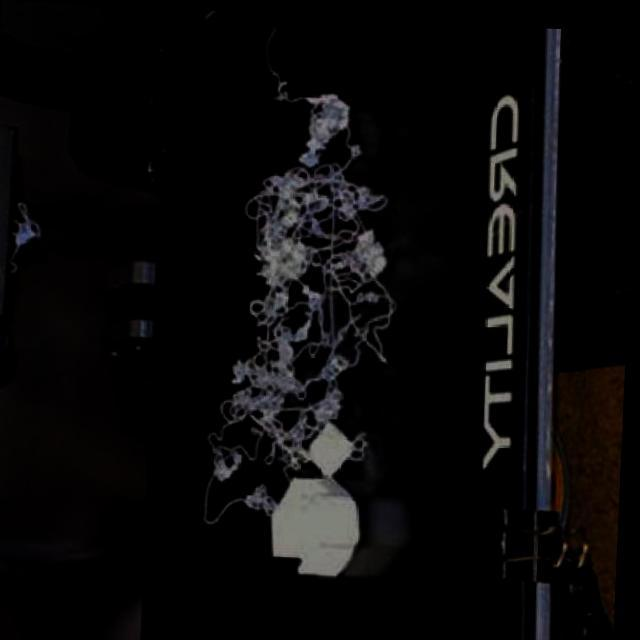spaghetti: (200, 77, 405, 530), (5, 198, 44, 273), (258, 19, 292, 100)
